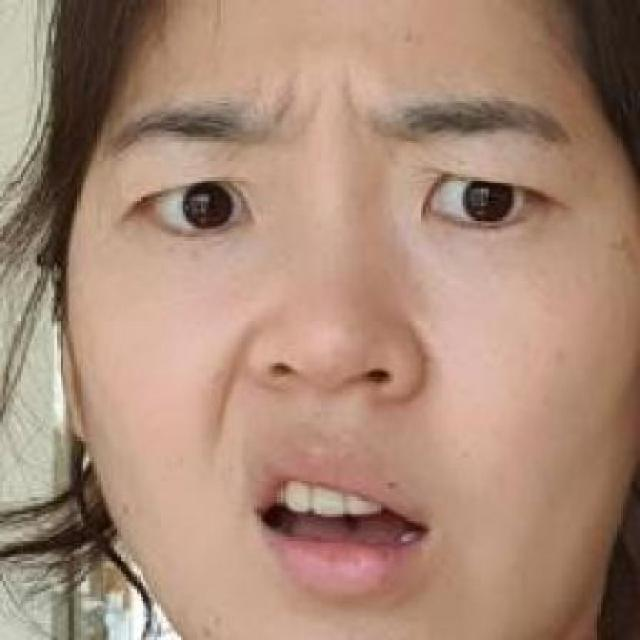anger: (68, 81, 556, 629)
